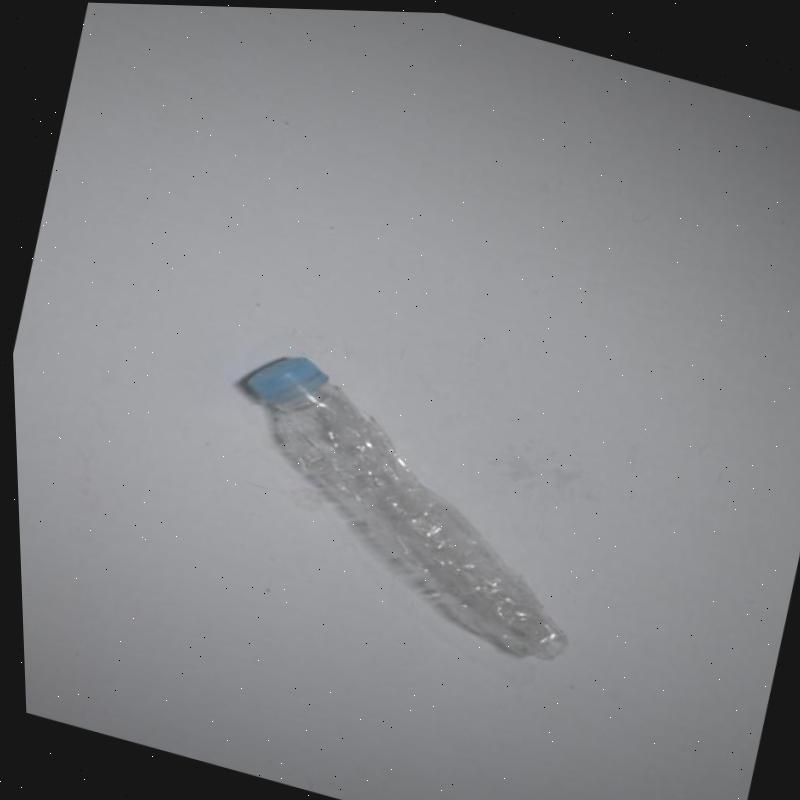botella: (189, 338, 616, 665)
